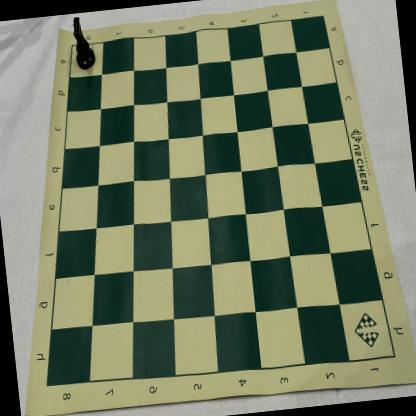black-knight: (70, 15, 96, 71)
